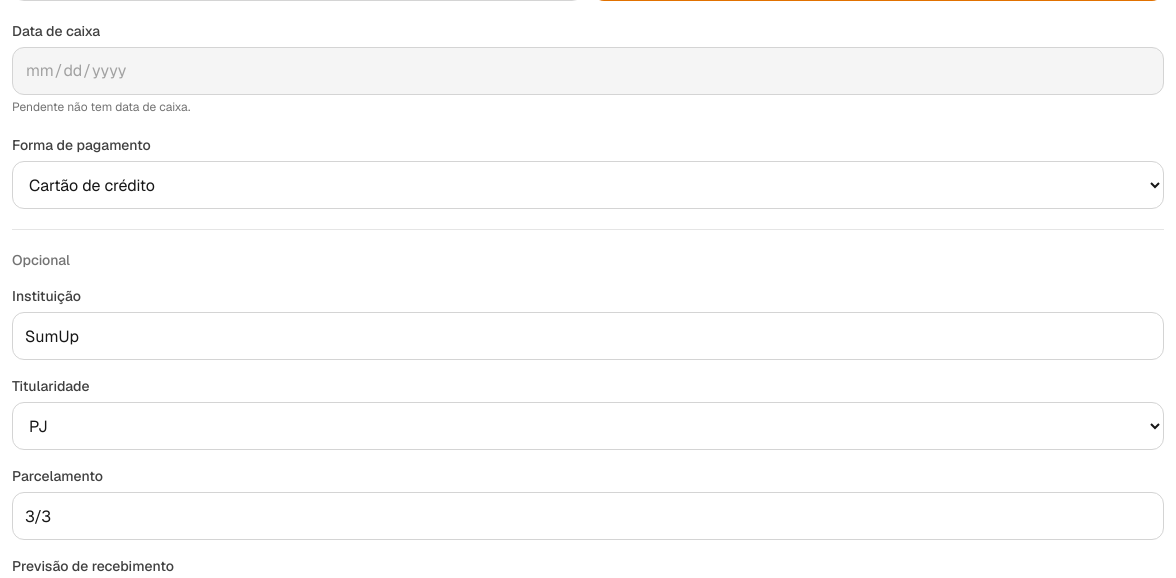
Scenario: FormularioLancamento: titularidade do PicPay › digitar PicPay esconde o campo, trocar de volta mostra
(page scrolled)
Replace the text in the field labelled "Instituição" with "picpay ". click: (588, 336)
box: [12, 312, 1164, 360]
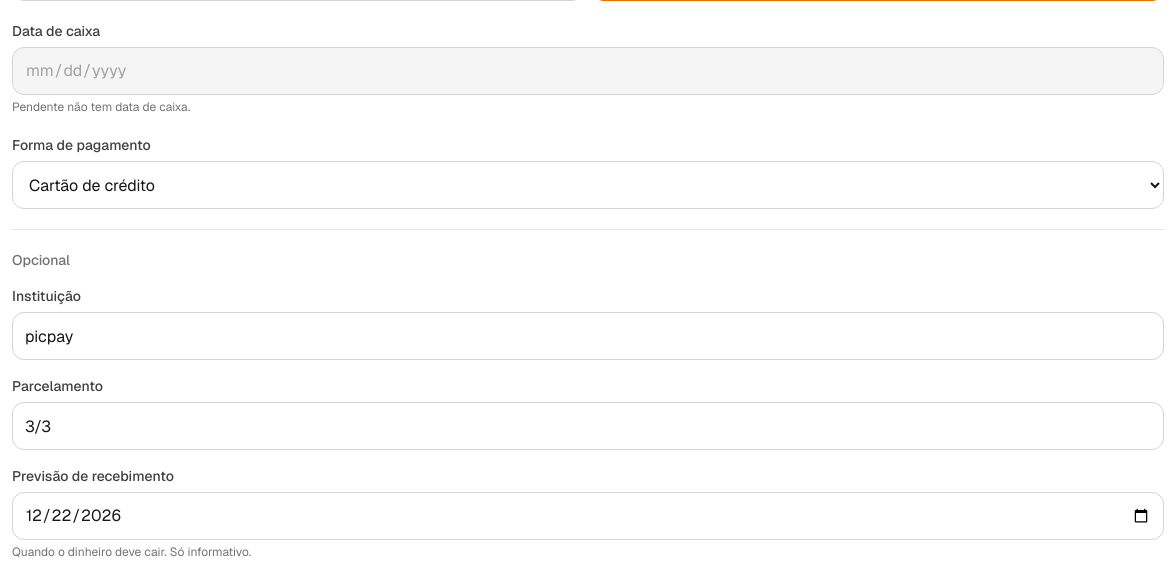
Expected: the label labelled "Titularidade" is gone
Replace the text in the field labelled "Instituição" with "Nubank". click: (588, 336)
box: [12, 312, 1164, 360]
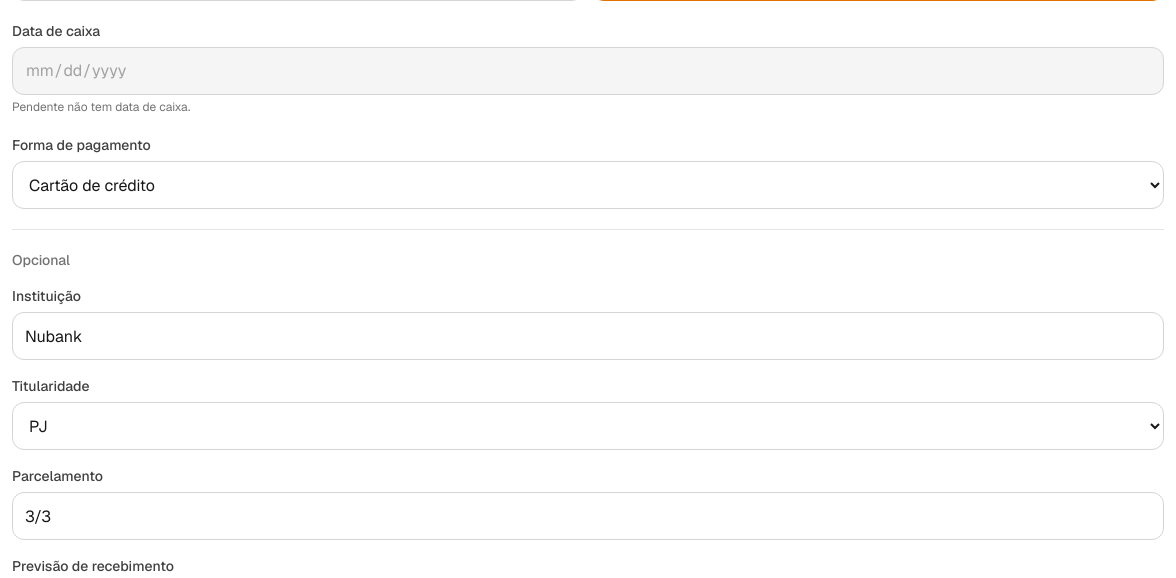
Expected: the dropdown labelled "Titularidade" is enabled, [12, 402, 1164, 450]
